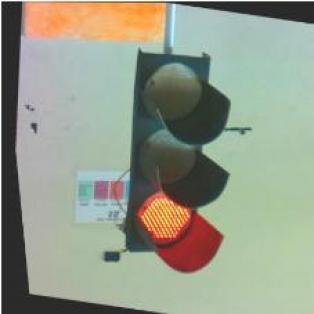Semaforo Rojo: (104, 42, 249, 276)
